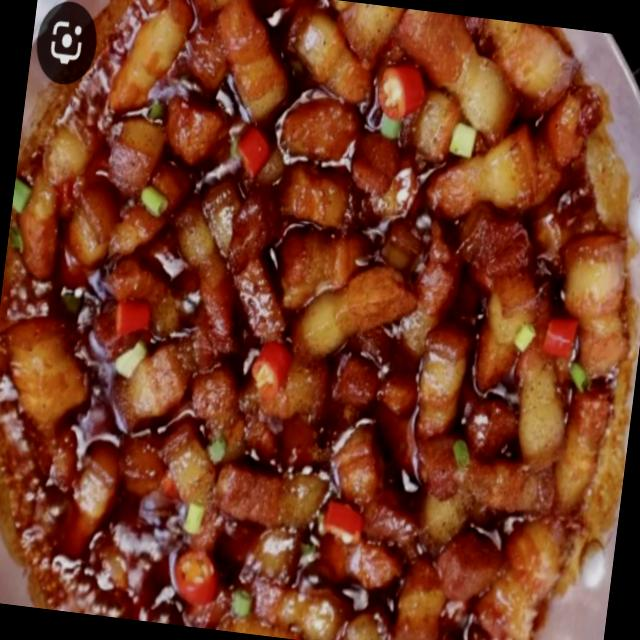kho tieu: (0, 0, 638, 640)
